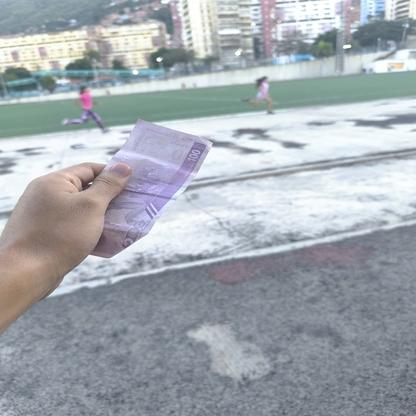one_hundred-back-vef: (86, 118, 214, 259)
